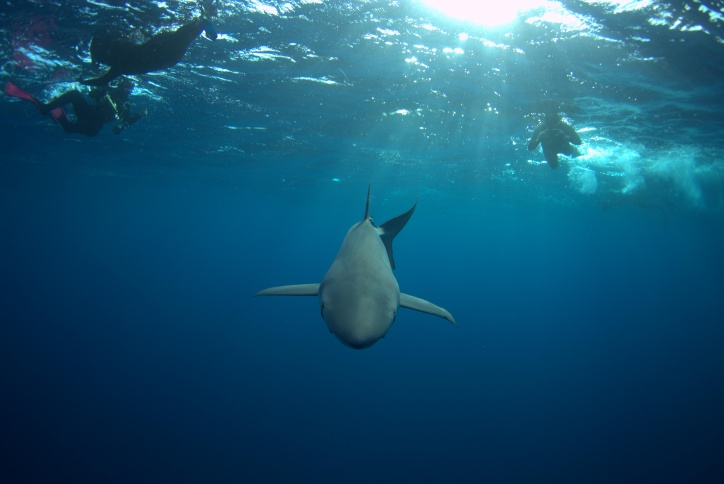Azul: (247, 181, 478, 358)
